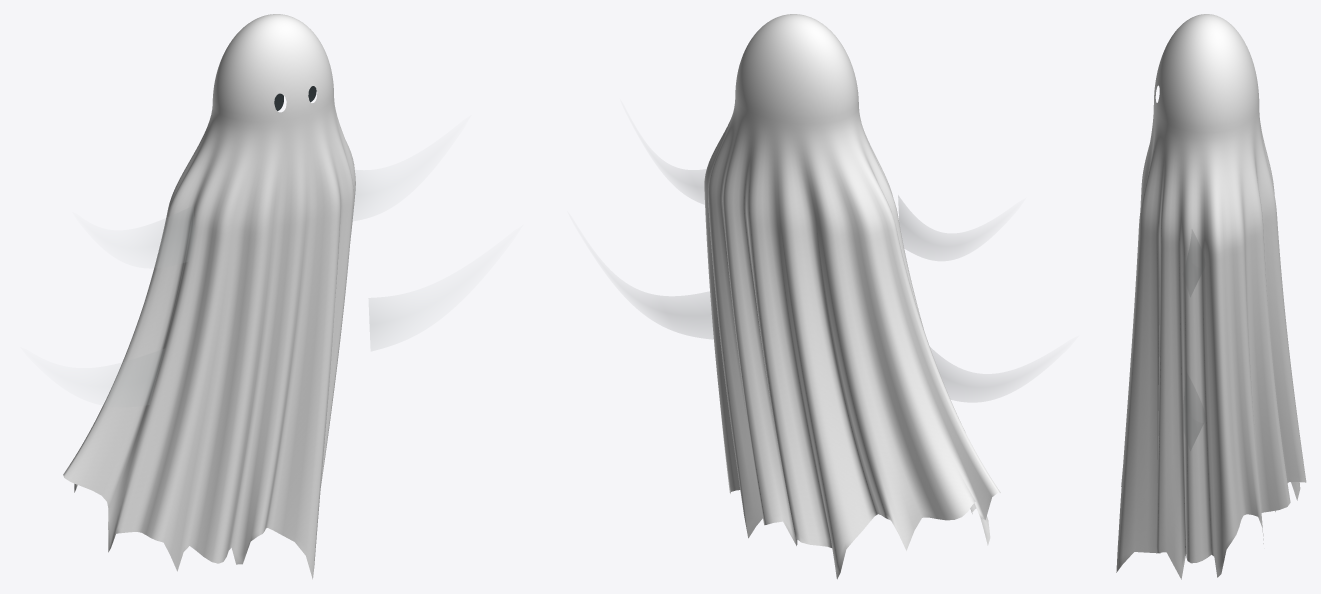
The model's file is sprout.glb.
The picture shows the model from 3 angles, left to right: view 1: azimuth 30°, elevation 25°; view 2: azimuth 150°, elevation 25°; view 3: azimuth 270°, elevation 25°; orthographic projection. The views are drawn at different scales.
Visible parts, largest first — view 1: Cinematic_Sprout_Shroud; view 2: Cinematic_Sprout_Shroud; view 3: Cinematic_Sprout_Shroud.
Part boxes in pixels (box(x1,y1,x2,y2)): Cinematic_Sprout_Shroud: box(63, 14, 466, 579); Cinematic_Sprout_Shroud: box(613, 14, 1020, 579); Cinematic_Sprout_Shroud: box(1116, 14, 1306, 579).
Size of the model in its own units: 2.04 by 2 by 0.6201.
Materials: 3 (1 with a texture image).
